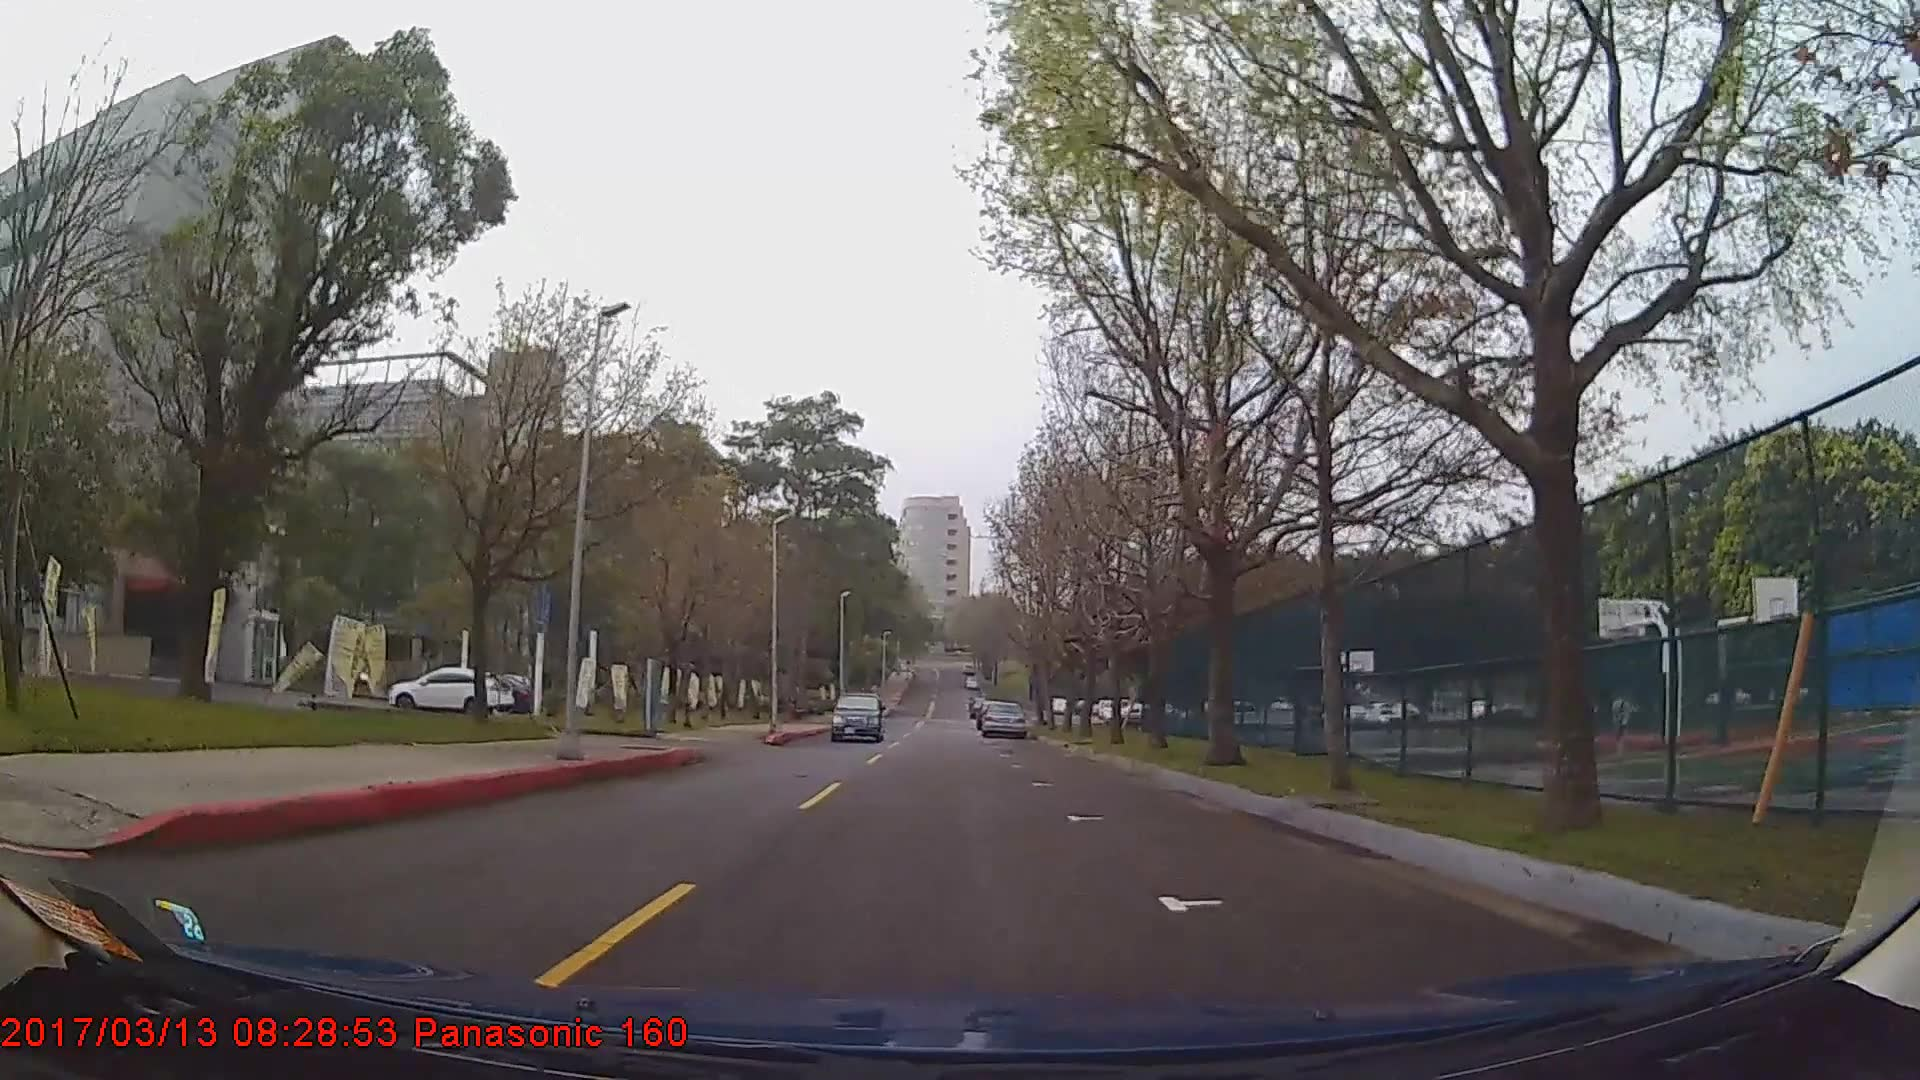vehicle: (386, 663, 512, 716), (829, 692, 884, 742), (978, 699, 1025, 740)
